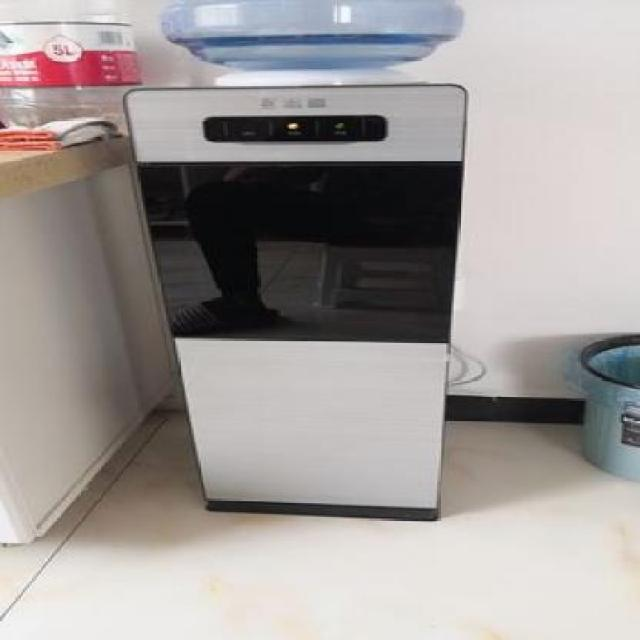cooler: (123, 0, 469, 521)
